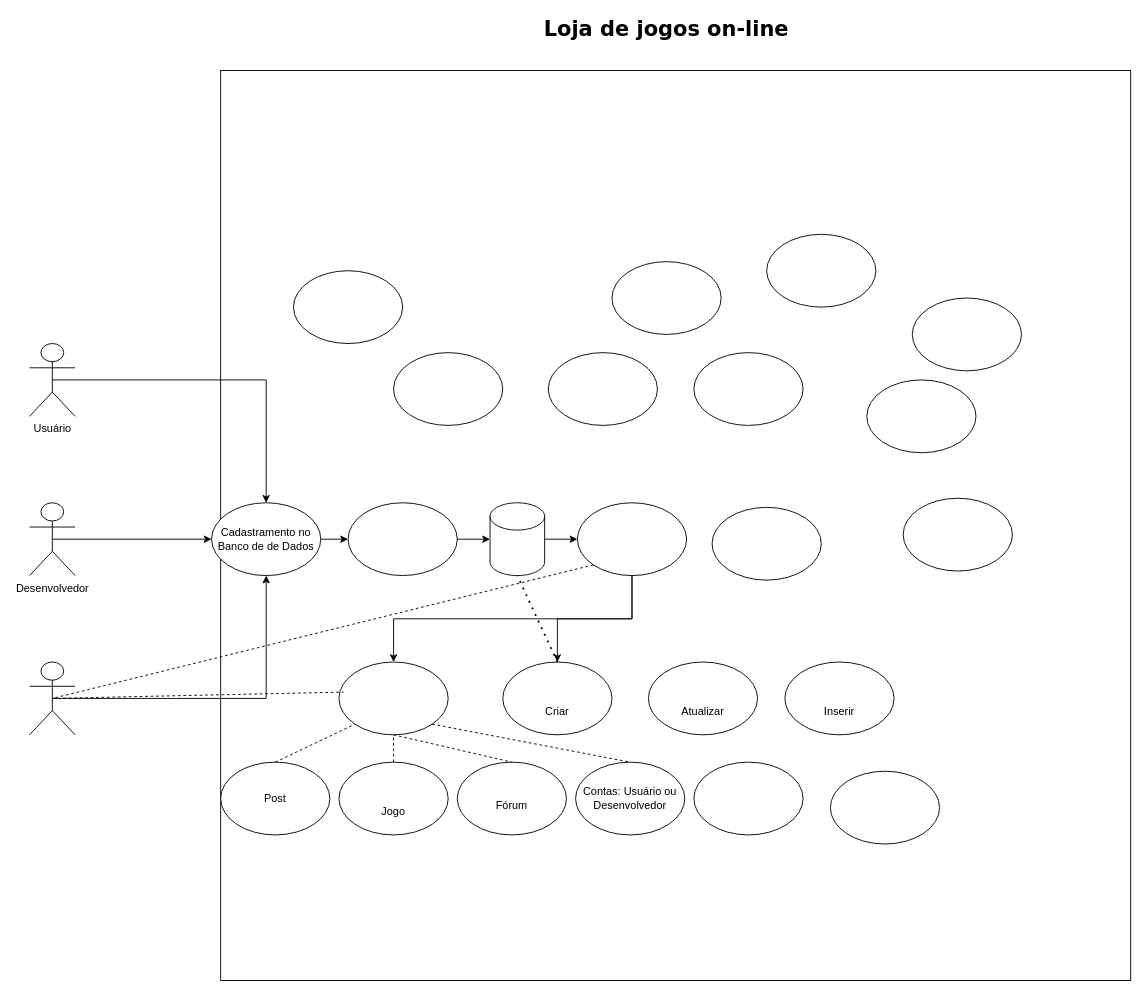
This 1147x996 diagram has some shape labels left out. Here are the shapes that lost their labels. From the top down, the box of each, then its label:
(347, 502, 457, 576): Autenticação em Duas Etapas
(489, 502, 545, 576): Banco de dados
(576, 502, 687, 576): Login
(29, 661, 75, 735): Administrador
(338, 661, 448, 735): Deletar
